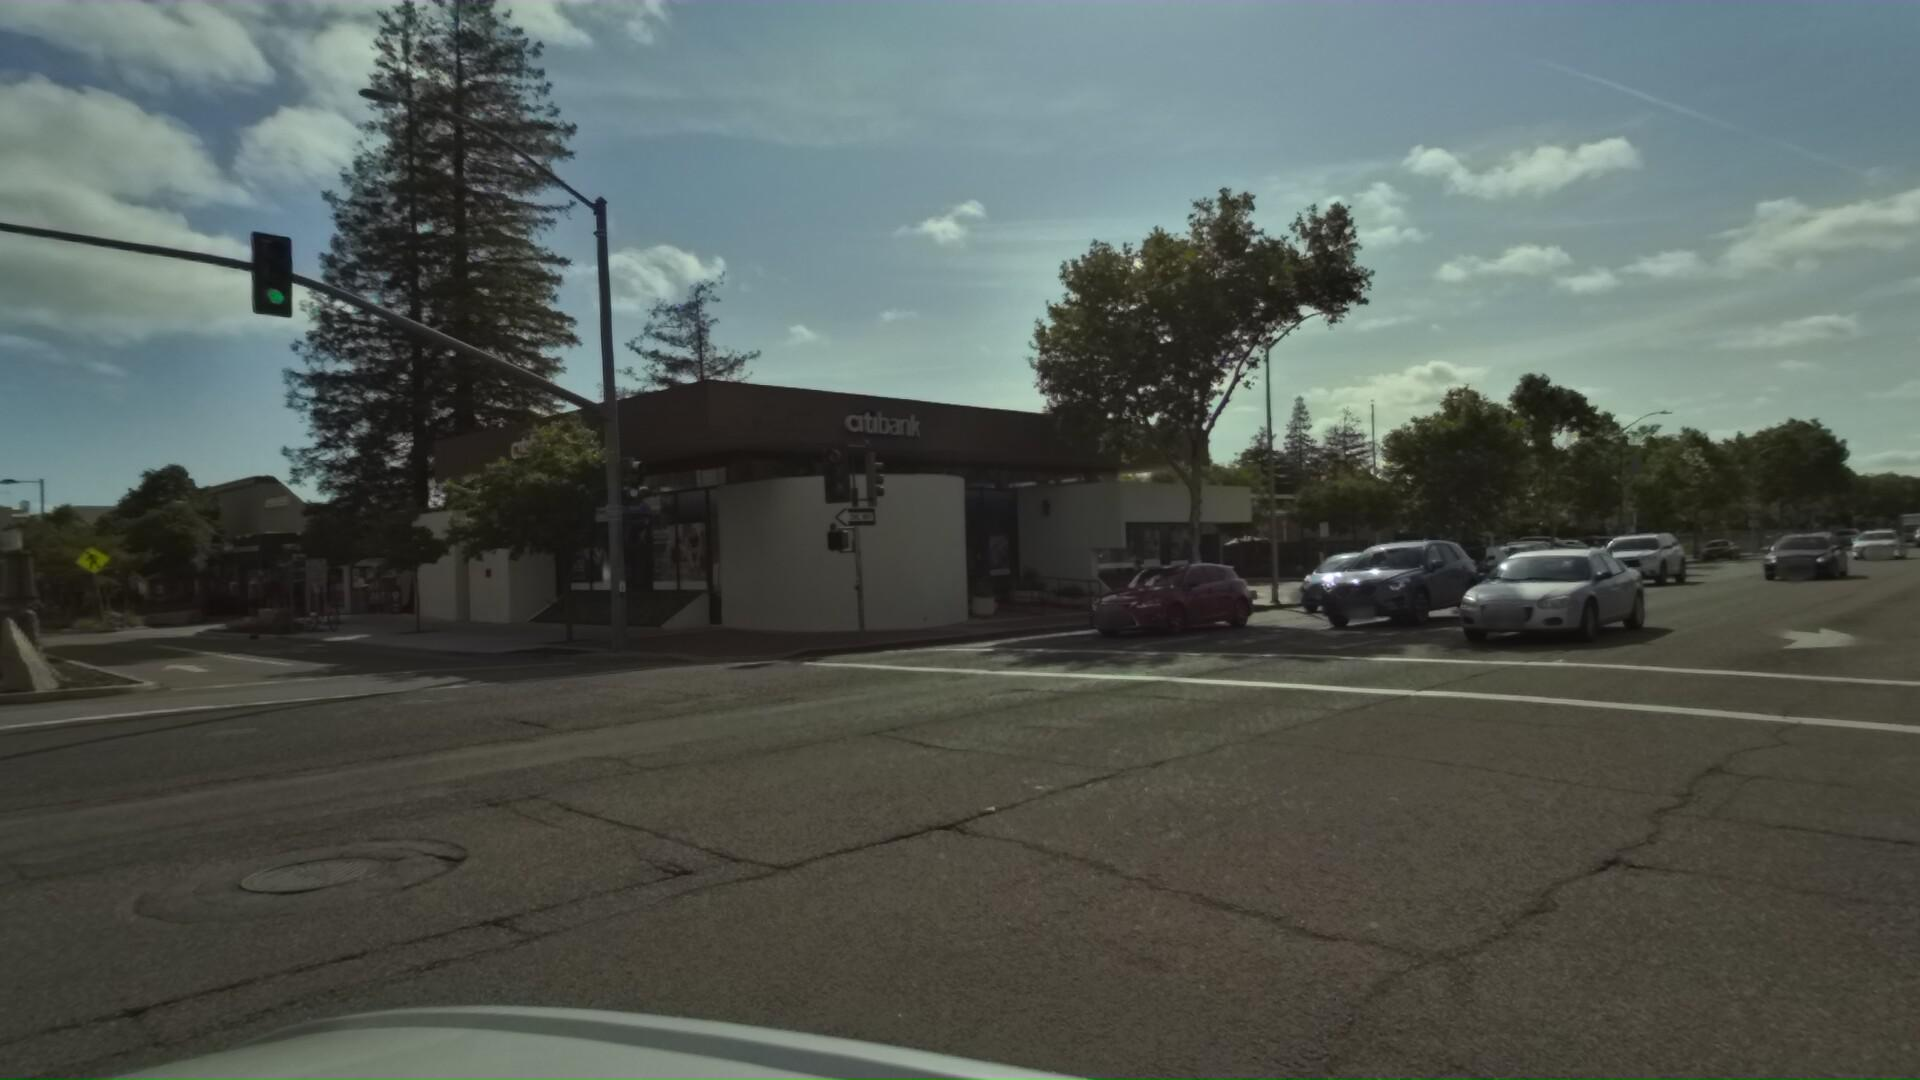car: (1456, 531, 1683, 646), (1320, 524, 1502, 624), (1081, 551, 1276, 640), (1298, 538, 1440, 608), (1596, 524, 1702, 585), (1768, 522, 1862, 576), (1428, 535, 1526, 585), (1477, 531, 1563, 580), (1569, 524, 1656, 555), (1560, 538, 1629, 578), (1503, 530, 1588, 562), (1858, 521, 1912, 556), (1702, 529, 1745, 556)
